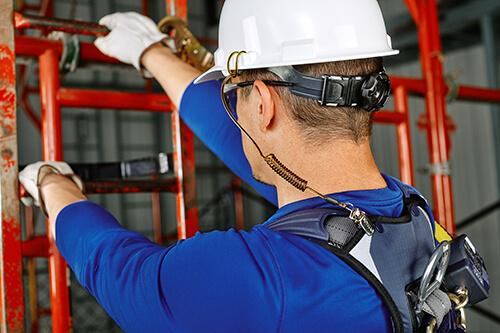helmet: (198, 2, 402, 82)
